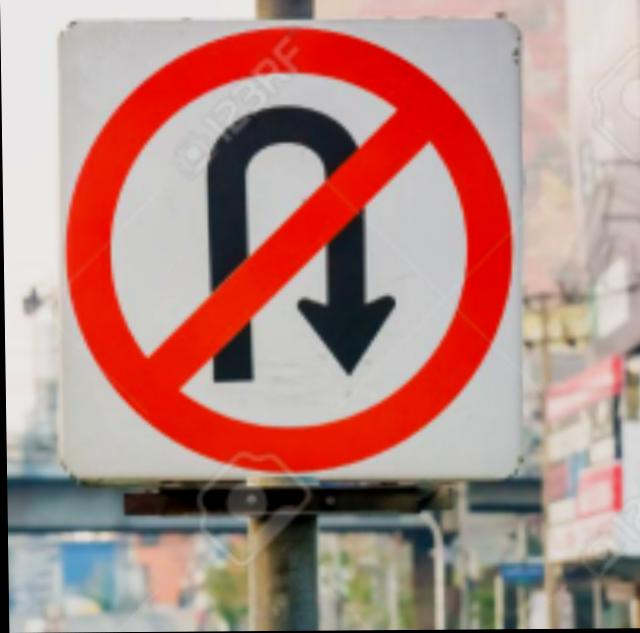not_u_turn_right: (75, 12, 521, 477)
